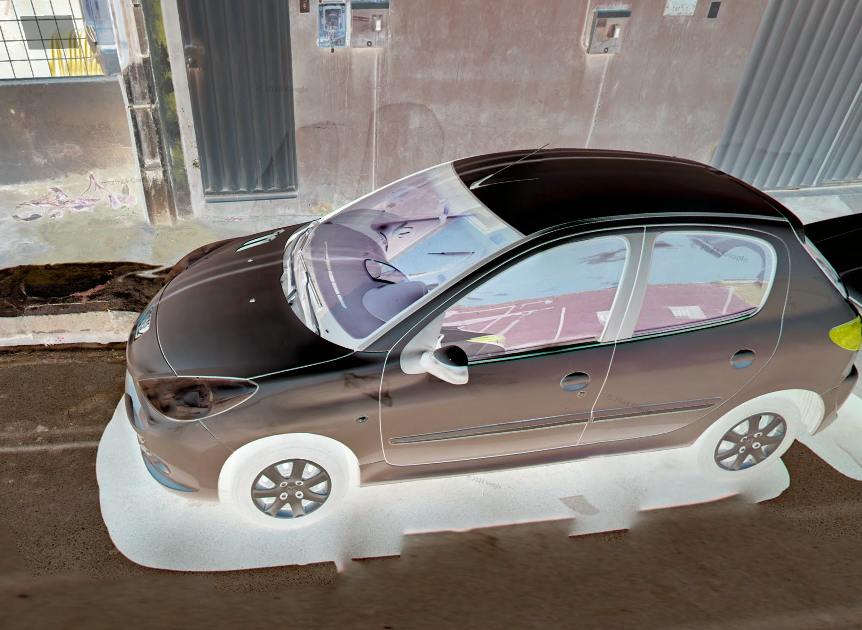car: (105, 139, 862, 536)
